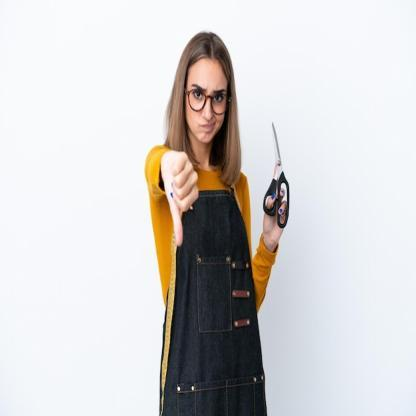thumb_up: (160, 147, 201, 250)
